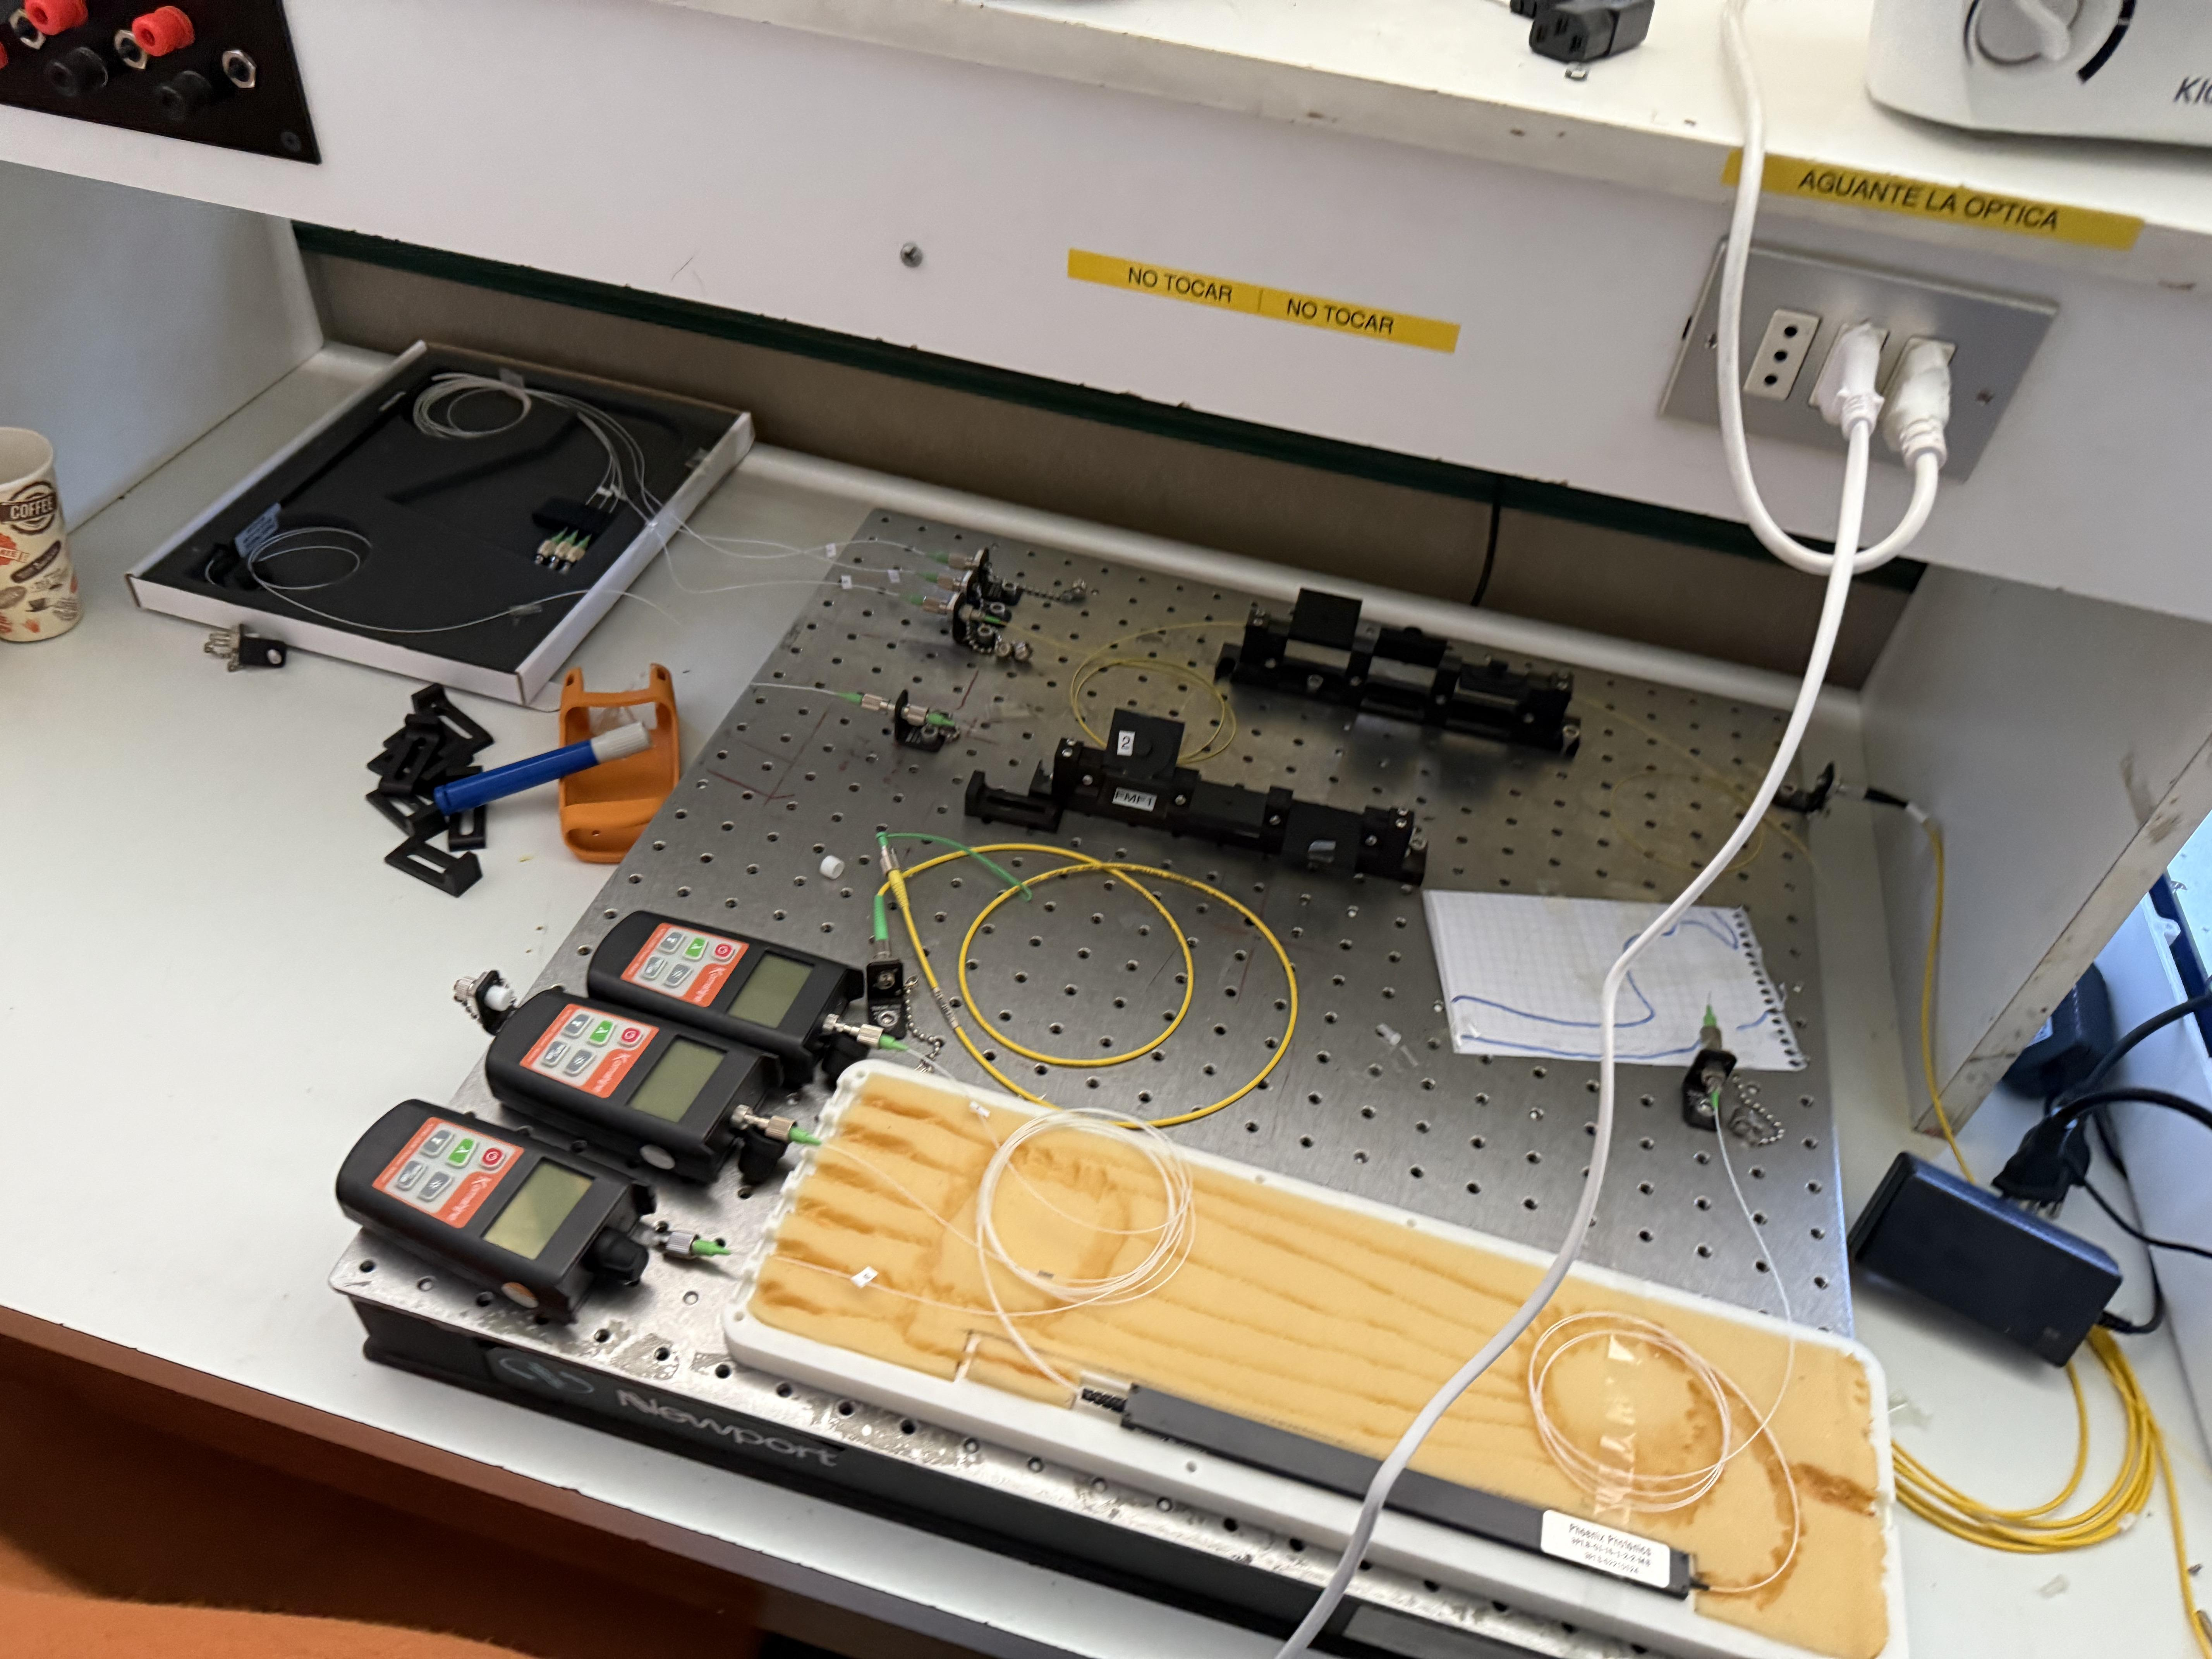paddle_polarization_controller: (1168, 563, 1601, 775), (1013, 687, 1450, 896)
powermeter: (314, 1088, 672, 1342), (455, 982, 796, 1204), (569, 896, 873, 1075)
